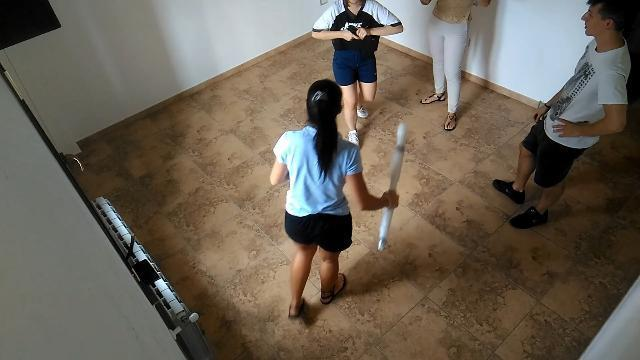non-violence: (272, 79, 403, 321), (494, 1, 630, 232), (422, 1, 490, 132)
violence: (310, 1, 402, 156)
weapon: (347, 24, 375, 41)
